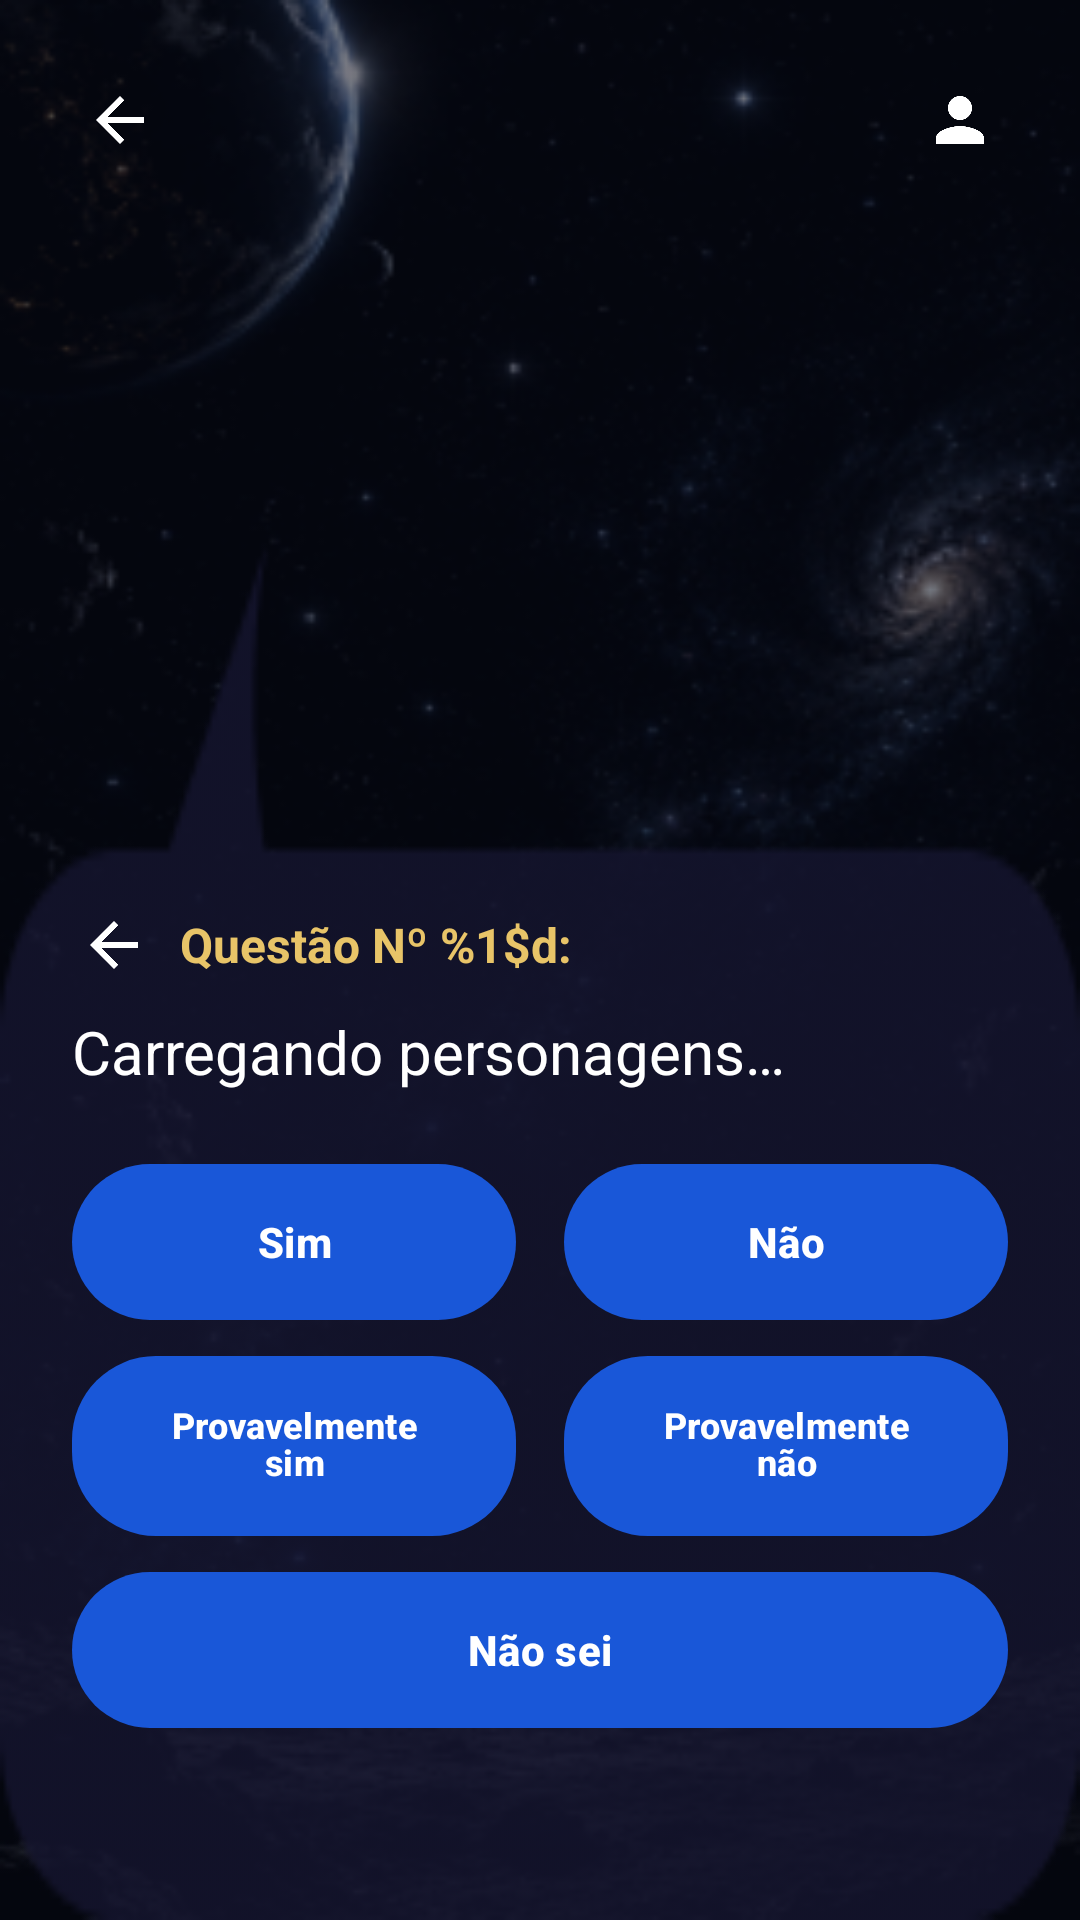

Where icons sit on this 1080x1920 app screen, as (x1, y1, x2, y2):
Perfil: (910, 96, 984, 178)
Pergunta anterior: (90, 921, 138, 969)
